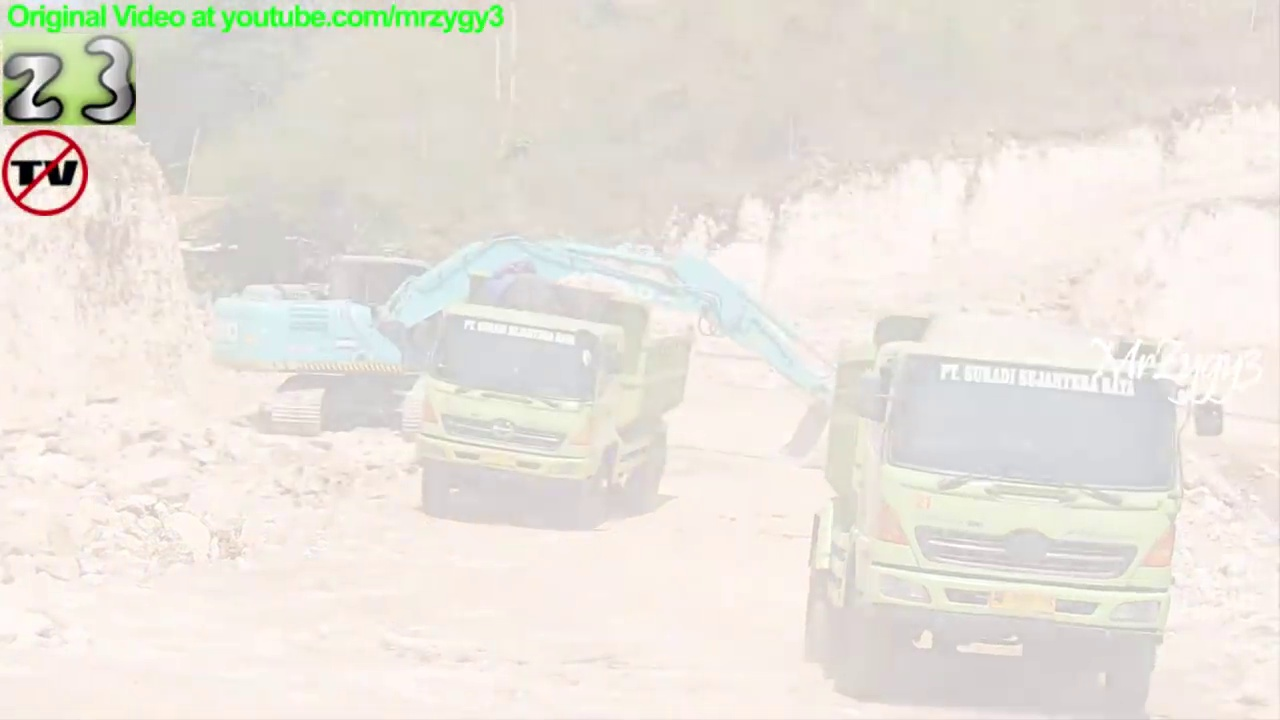excavator: (203, 223, 895, 478)
truck: (793, 310, 1230, 719), (407, 259, 700, 523)
